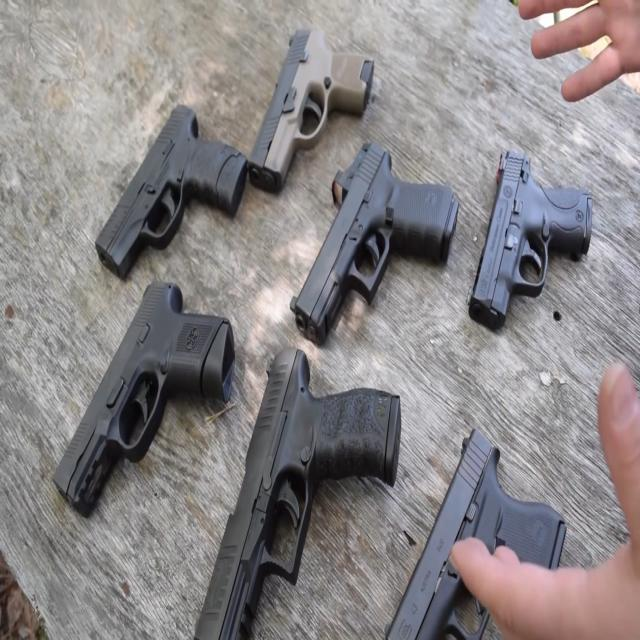handgun: (189, 352, 422, 640), (48, 291, 262, 538), (365, 455, 586, 640), (452, 120, 610, 349), (71, 96, 255, 290), (285, 139, 464, 334), (236, 9, 373, 184)
